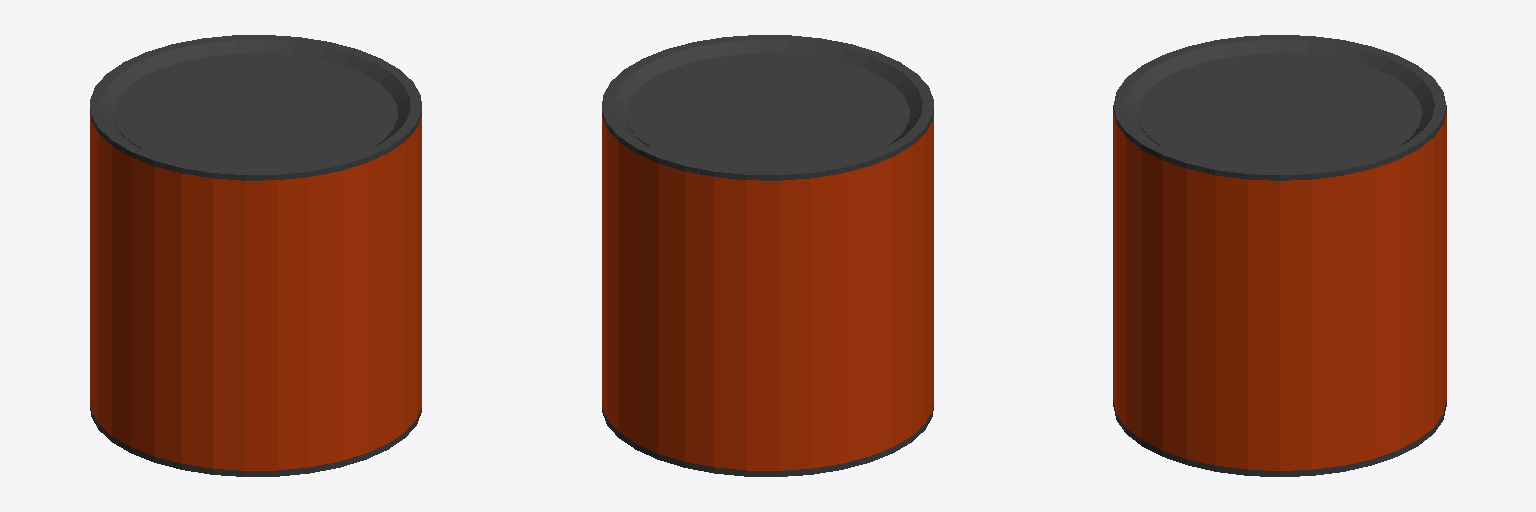
File: lesson_18_can.obj
The picture shows the model from 3 angles: view 1: azimuth 30°, elevation 25°; view 2: azimuth 150°, elevation 25°; view 3: azimuth 270°, elevation 25°; orthographic projection.
Parts seen in each view (by area): view 1: Cylinder; view 2: Cylinder; view 3: Cylinder.
Part boxes in pixels (x1,y1,x2,y2): Cylinder: (90,35,421,476); Cylinder: (602,35,933,476); Cylinder: (1113,35,1446,476).
Bounding box in the file's own units: 2 × 2 × 2.